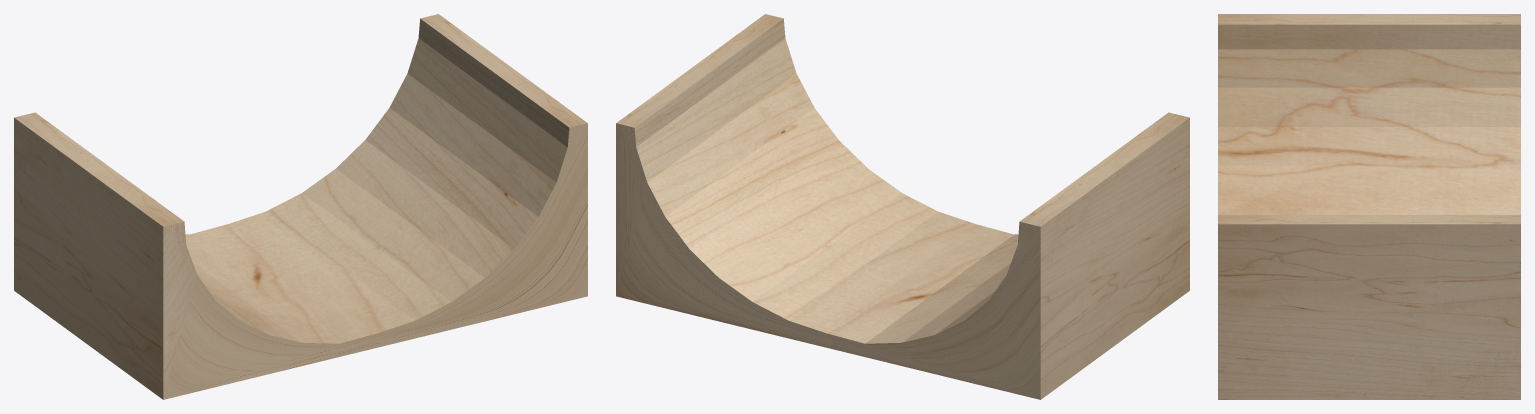
The model's file is halfpipe.dae.
3 views of the same model, side by side, from view 1: azimuth 30°, elevation 25°; view 2: azimuth 150°, elevation 25°; view 3: azimuth 270°, elevation 25° (orthographic).
Visible parts, largest first — view 1: Cube; view 2: Cube; view 3: Cube.
Part boxes in pixels (<box>): Cube: <box>14,14,587,399</box>; Cube: <box>616,14,1189,399</box>; Cube: <box>1218,14,1520,399</box>.
Bounding box in the file's own units: 6.64 × 4.04 × 2.59.
Materials: 1 (1 with a texture image).
